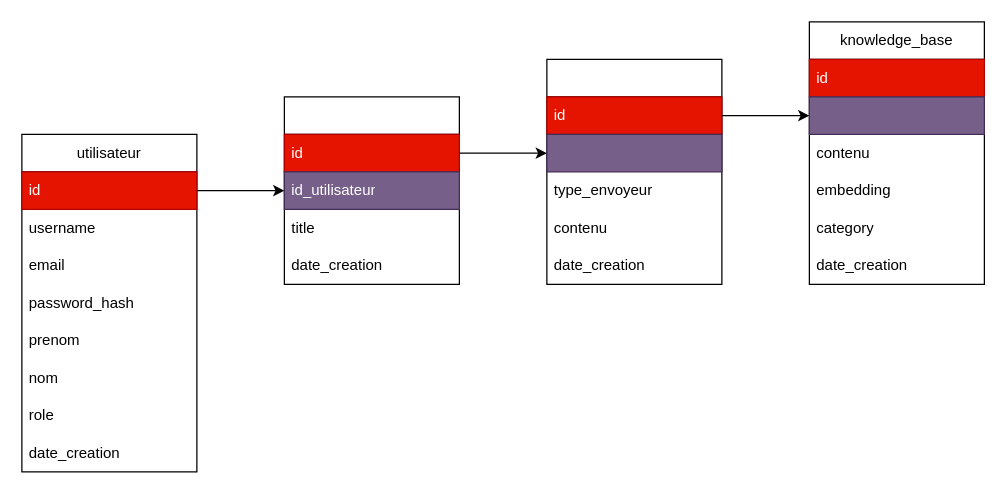
Image size: 1006x494. Some labels were removed from this diagram. Each missing label, with the box of its shape:
chat_messages: (546, 58, 722, 284)
chat_sessions: (283, 96, 459, 284)
session_id: (546, 133, 722, 172)
source_message_id: (808, 96, 984, 134)
